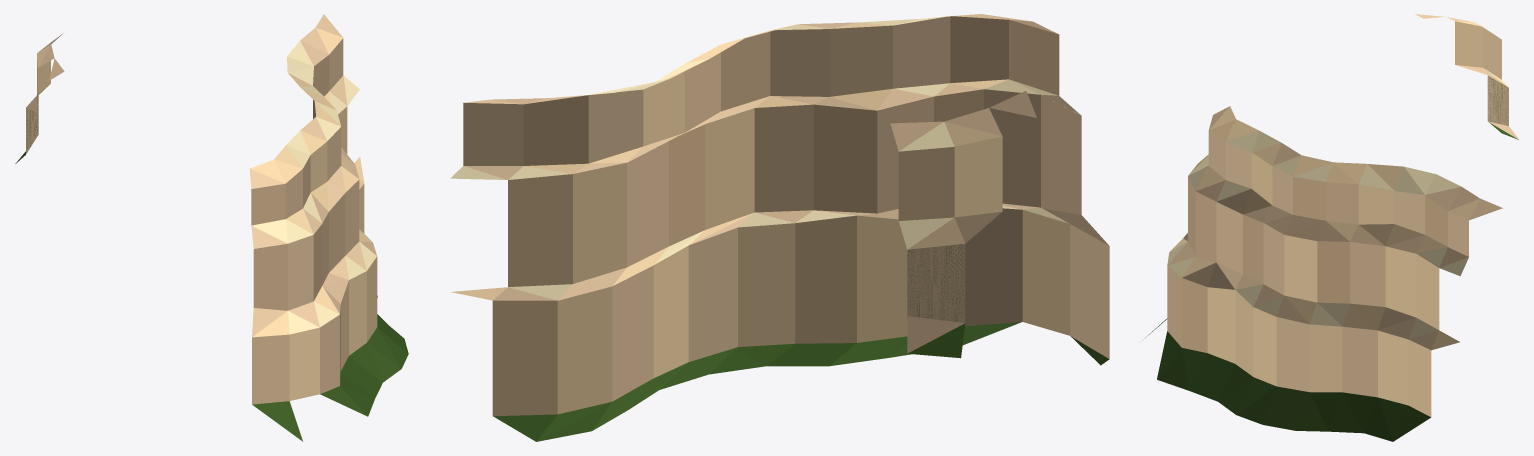
3 renders of one model, left to right at view 1: azimuth 30°, elevation 25°; view 2: azimuth 150°, elevation 25°; view 3: azimuth 270°, elevation 25°, orthographic. The views are drawn at different scales.
Visible parts, largest first — view 1: O26D99; view 2: O26D99; view 3: O26D99.
Boxes of the visible parts, x1,y1,x2,y2 form: O26D99: (15,14,408,441); O26D99: (450,14,1109,441); O26D99: (1142,14,1518,441).
Bounding box in the file's own units: 138 × 116 × 141.
